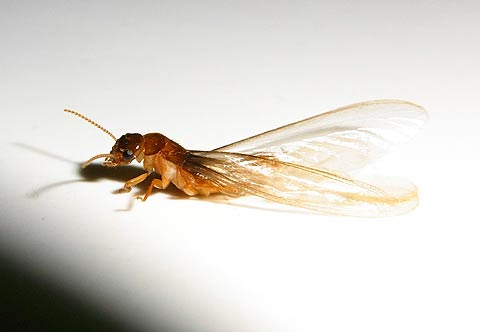flying termite: (55, 75, 432, 232)
